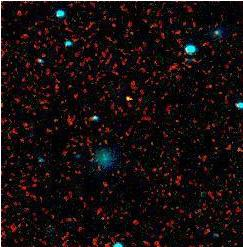star: (109, 82, 139, 112)
